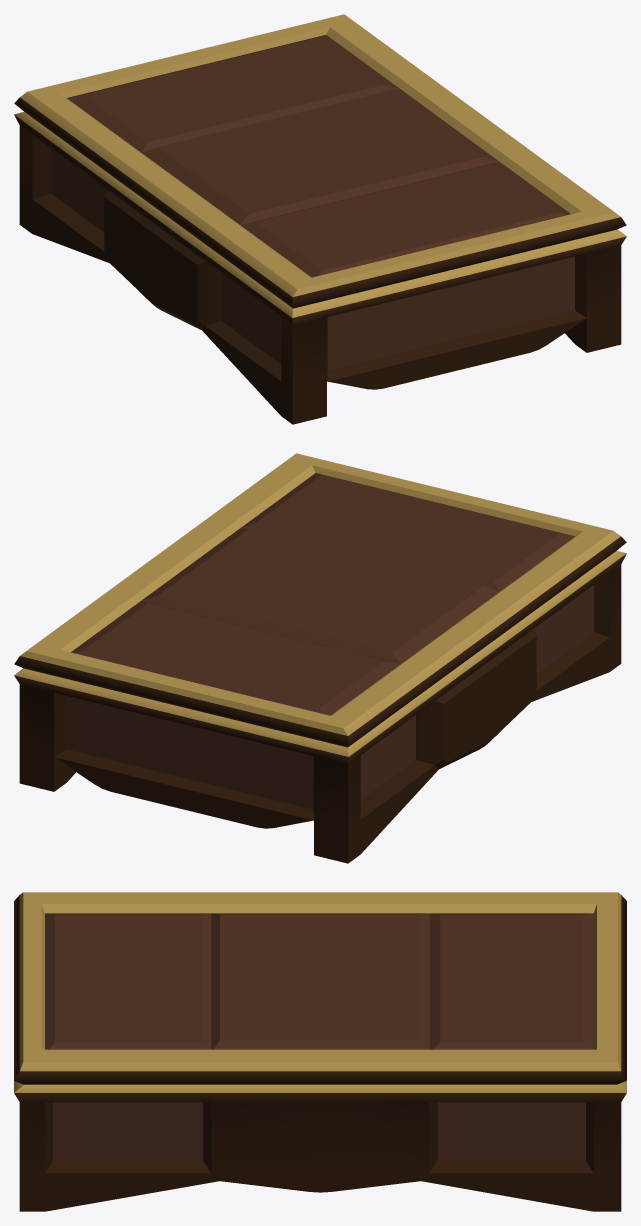
Rendered from CigarBox.fbx.
The picture shows the model from 3 angles, top to bottom: view 1: azimuth 30°, elevation 25°; view 2: azimuth 150°, elevation 25°; view 3: azimuth 270°, elevation 25°; orthographic projection. The views are drawn at different scales.
Visible parts, largest first — view 1: pCube4; view 2: pCube4; view 3: pCube4.
Boxes of the visible parts, left/top/right/bottom form: pCube4: left=14, top=14, right=626, bottom=424; pCube4: left=14, top=453, right=626, bottom=863; pCube4: left=14, top=892, right=626, bottom=1211.
Bounding box in the file's own units: 98.13 × 36.94 × 140.
